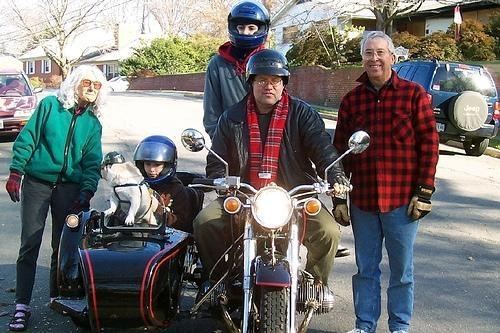car: (392, 58, 500, 156), (0, 66, 42, 140), (108, 76, 130, 92)
motorcycle: (52, 127, 370, 332)
